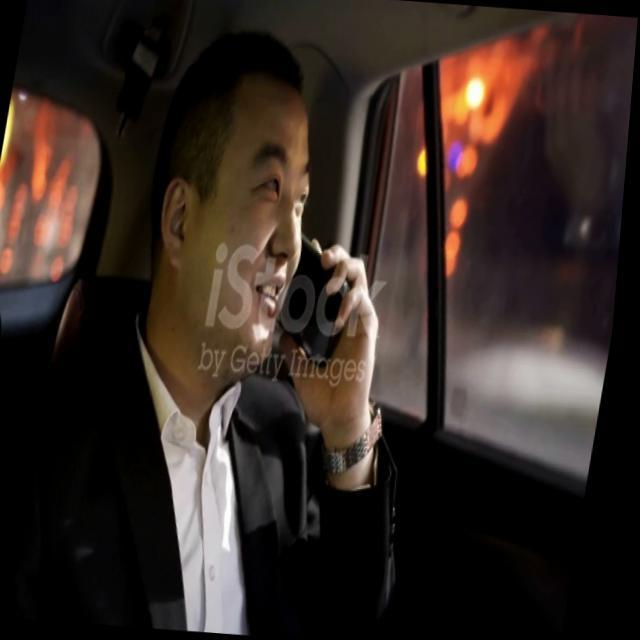PhoneCall: (274, 220, 362, 378)
